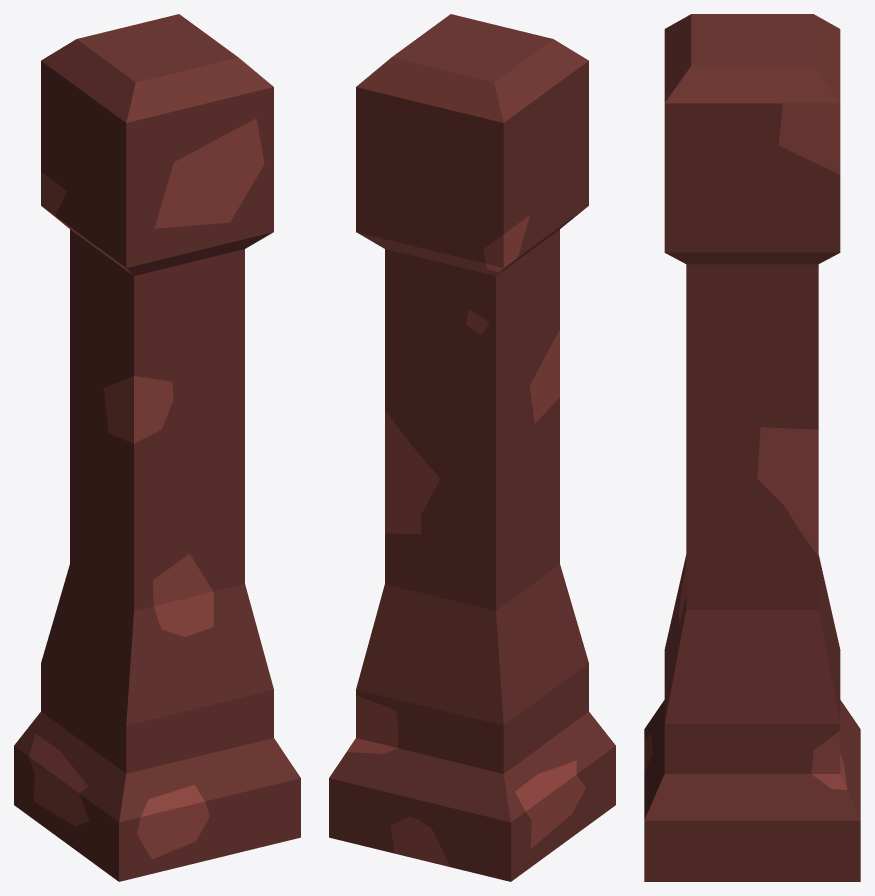
The model's file is Ruin_4_Red.fbx.
3 renders of one model, left to right at view 1: azimuth 30°, elevation 25°; view 2: azimuth 150°, elevation 25°; view 3: azimuth 270°, elevation 25°, orthographic. The views are drawn at different scales.
Parts seen in each view (by area): view 1: Ruin_4_Red; view 2: Ruin_4_Red; view 3: Ruin_4_Red.
Part boxes in pixels (<box>): Ruin_4_Red: <box>14,14,300,881</box>; Ruin_4_Red: <box>329,14,615,881</box>; Ruin_4_Red: <box>644,14,860,881</box>.
Bounding box in the file's own units: 98.48 × 400 × 98.48.
